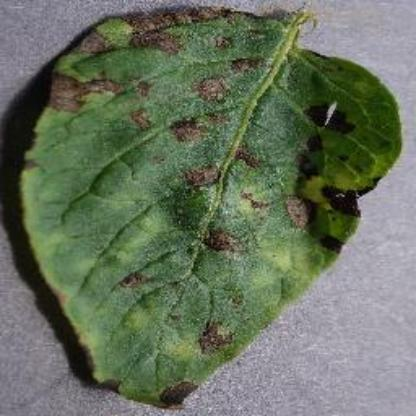Early-Blight: (26, 5, 406, 406)
